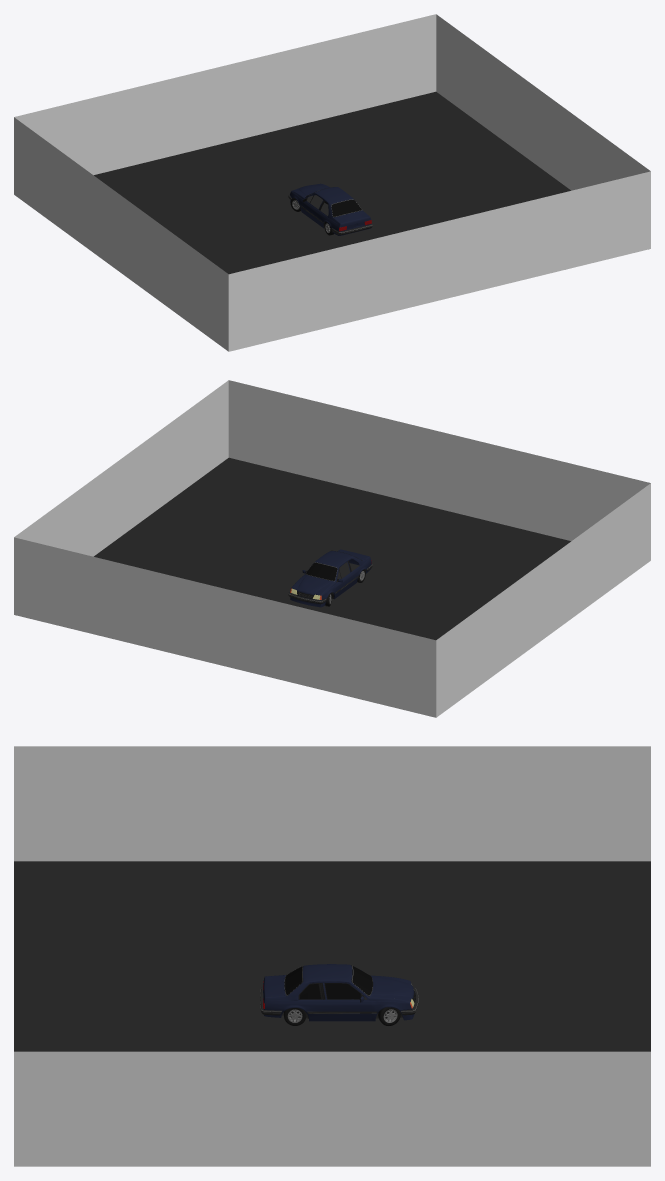
File: chevrolet-monza.glb
The picture shows the model from 3 angles, top to bottom: view 1: azimuth 30°, elevation 25°; view 2: azimuth 150°, elevation 25°; view 3: azimuth 270°, elevation 25°; orthographic projection. The views are drawn at different scales.
Visible parts, largest first — view 1: Cubo.001, Cubo.002, Plano.004; view 2: Cubo.001, Cubo.002, Plano.004; view 3: Cubo.001, Cubo.002, Plano.004, Plano.006.
Part boxes in pixels (<box>): Cubo.001: <box>14,14,650,351</box>; Cubo.002: <box>94,91,570,274</box>; Plano.004: <box>290,183,371,235</box>; Cubo.001: <box>14,380,650,717</box>; Cubo.002: <box>94,457,570,640</box>; Plano.004: <box>289,549,371,607</box>; Cubo.001: <box>14,746,650,1166</box>; Cubo.002: <box>14,861,650,1051</box>; Plano.004: <box>263,964,415,1021</box>; Plano.006: <box>285,966,372,995</box>.
Bounding box in the file's own units: 11.39 × 2 × 10.04.
